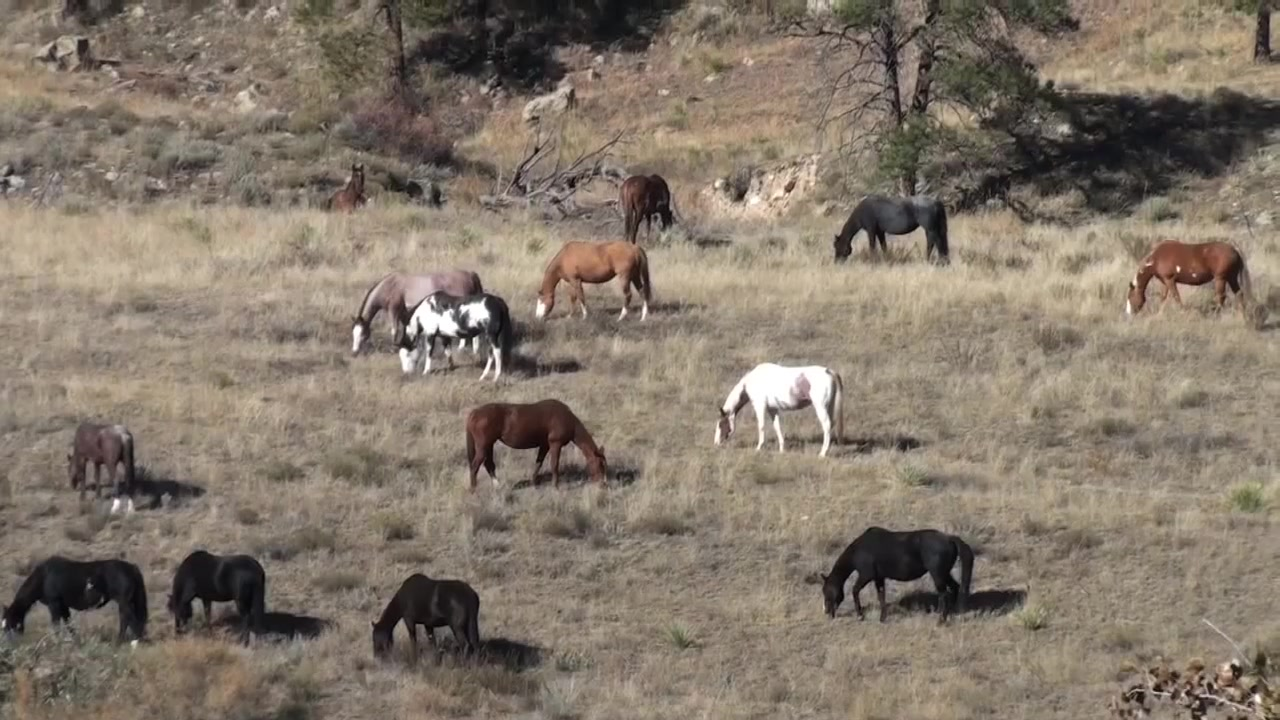horse: (461, 401, 619, 490)
